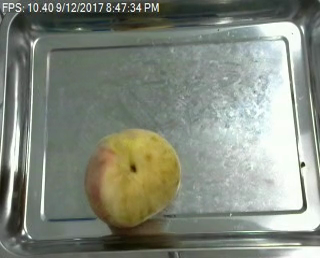Peach: (84, 128, 181, 230)
